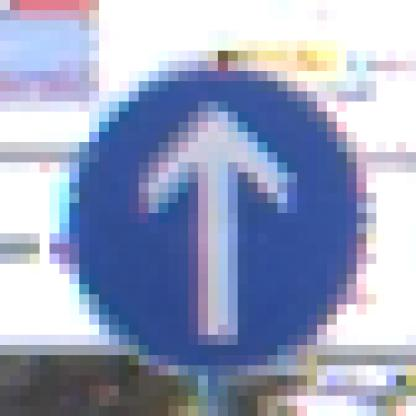AheadOnly: (51, 52, 358, 366)
